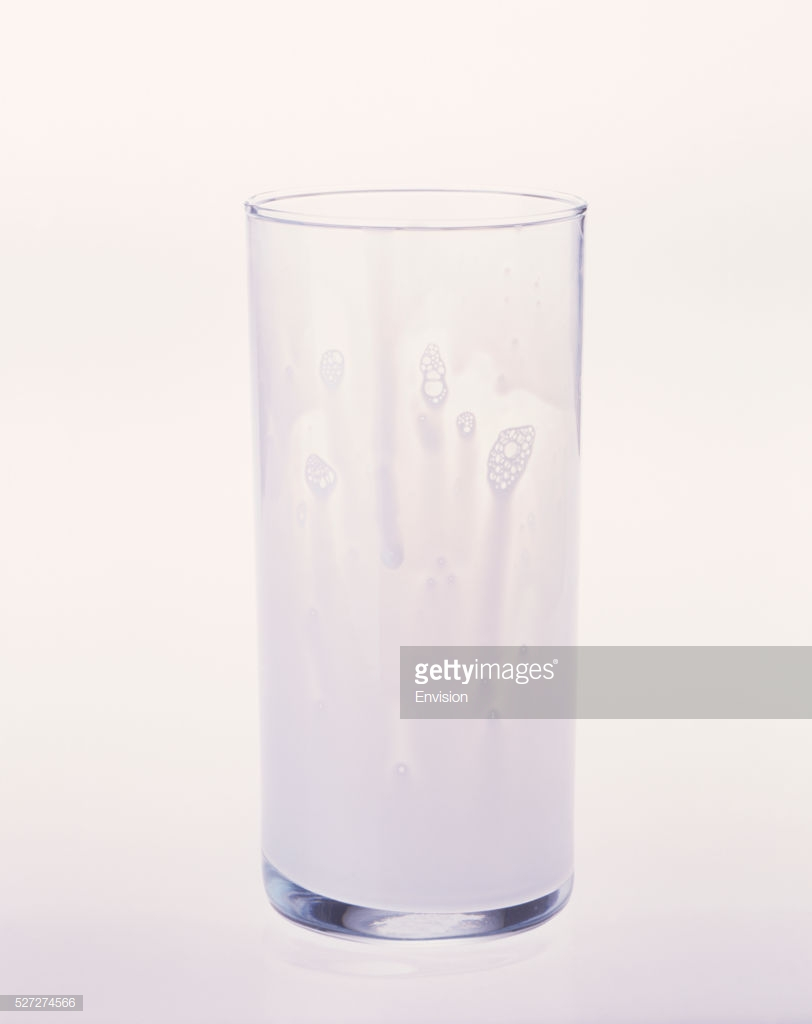glass of milk: (281, 240, 434, 951)
